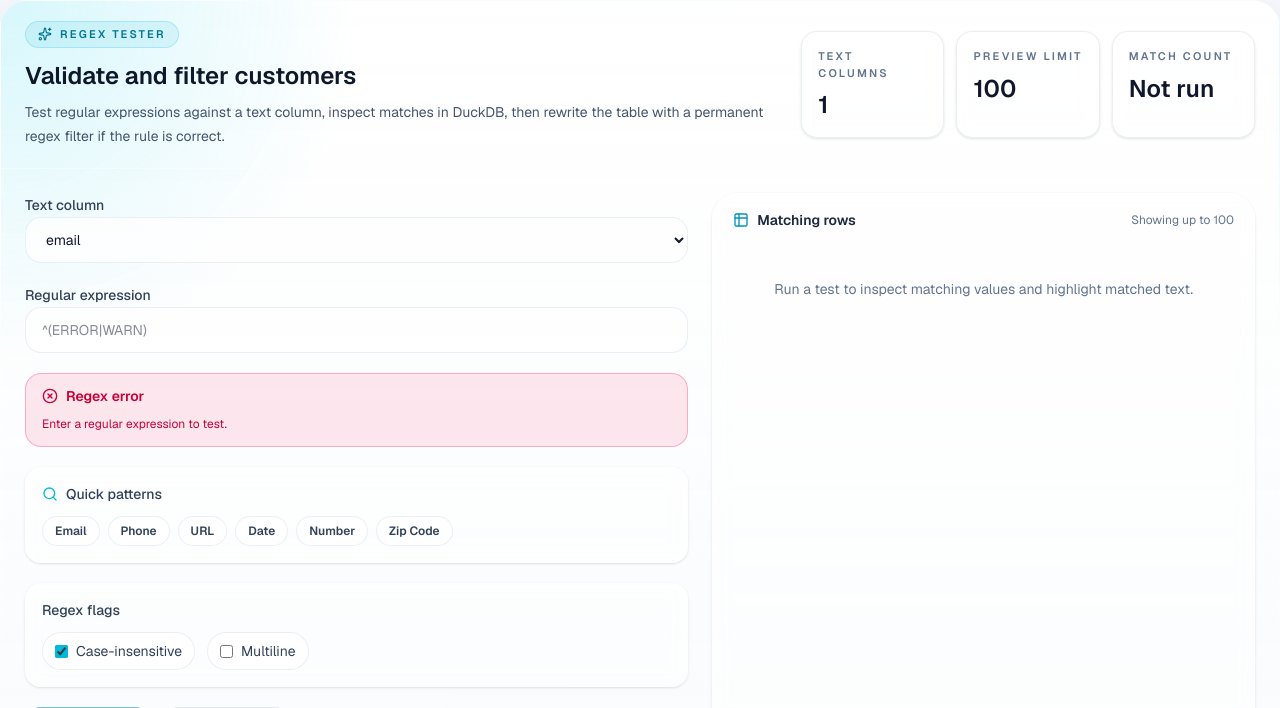
RegexTester › tests a valid regex and renders matching rows
What coordinates should you click on to do the following:
click the button "Email"
I would click on:
 (71, 531)
Its box is [42,516,100,546].
(page scrolled)
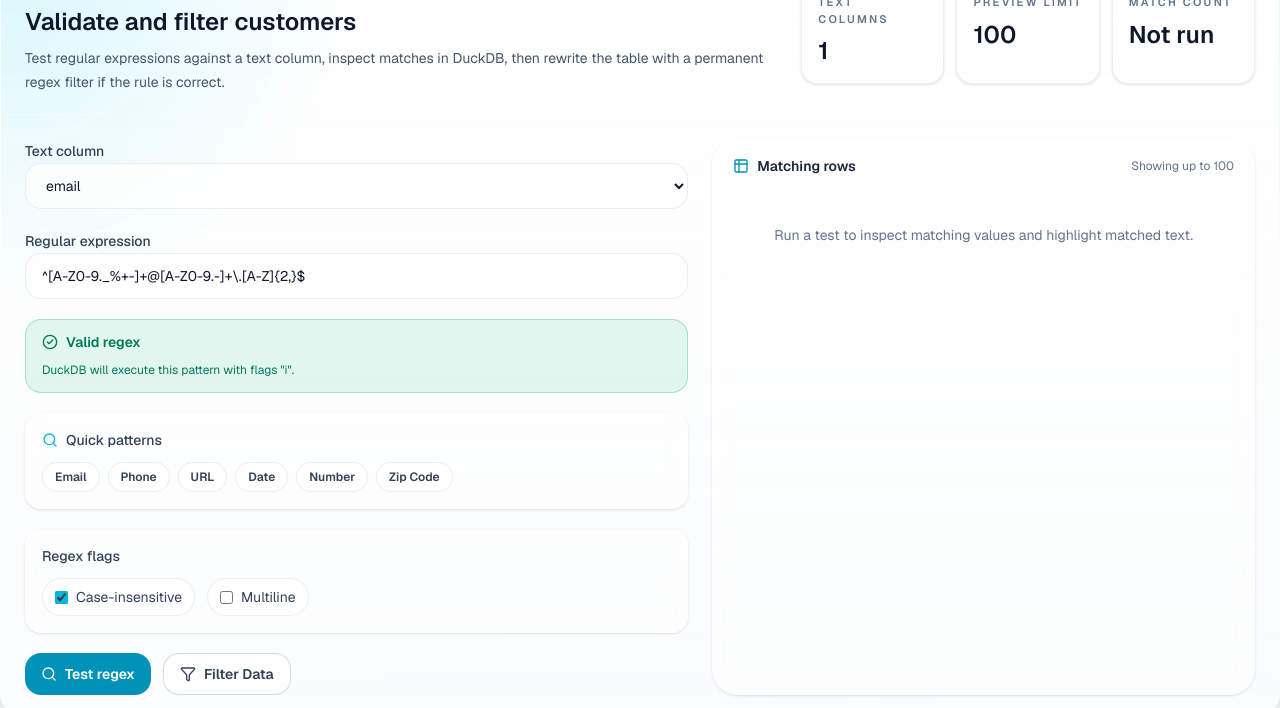
What coordinates should you click on to do the following:
click the button "Test regex"
I would click on:
 (88, 674)
Its box is [25,653,151,695].
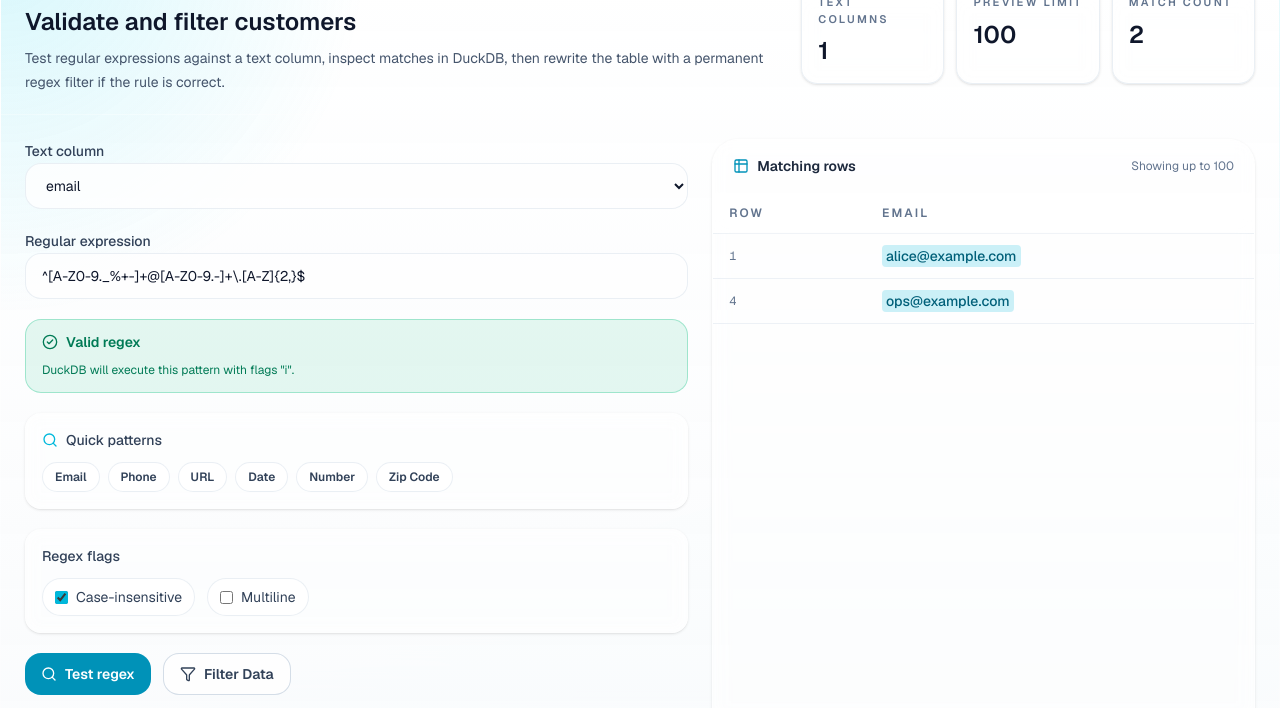
Expected: the text "2" is shown, [1129,19,1144,50]
Expected: the text "alice@example.com" is shown, [882,245,1020,267]
Expected: the text "ops@example.com" is shown, [882,290,1014,312]
